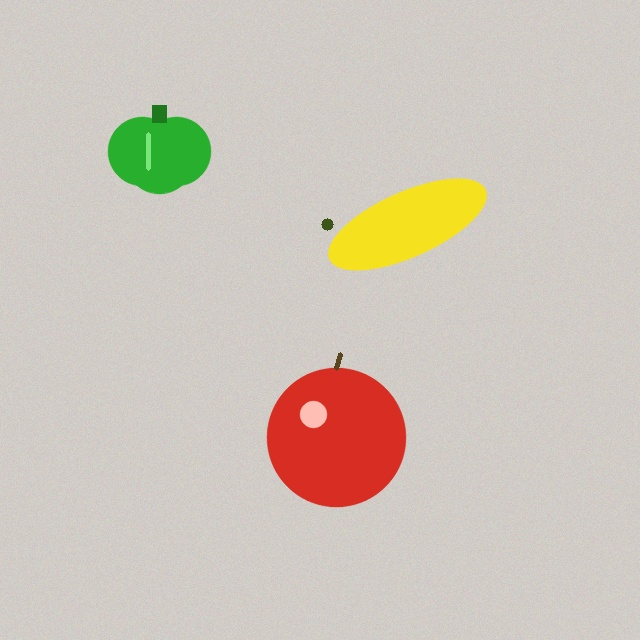Fresh apple: (267, 354, 405, 506)
Fresh banana: (318, 184, 496, 264)
Fresh bell pepper: (108, 105, 210, 193)
